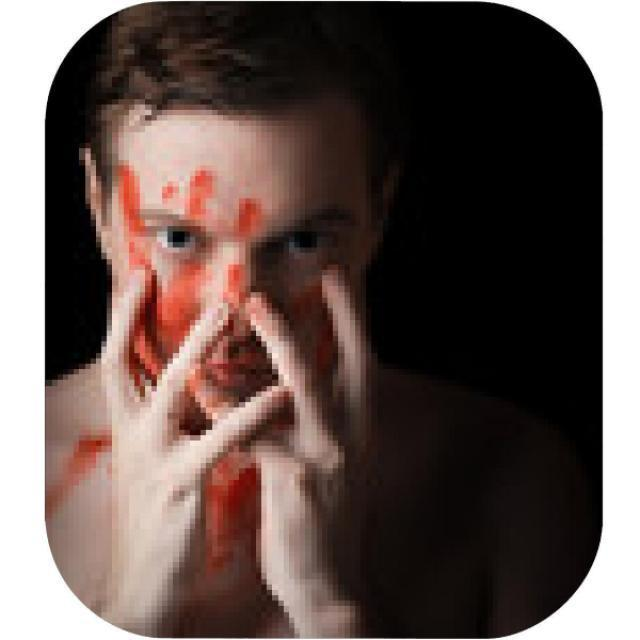flood: (123, 180, 282, 520)
